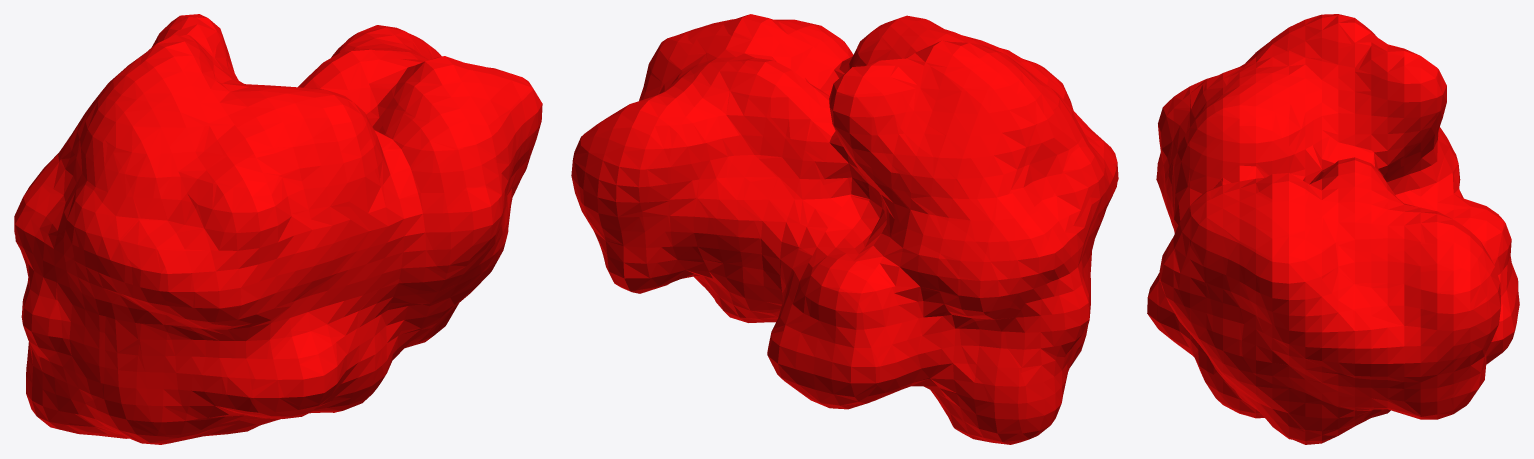
The model's file is yahK_coarse.dae.
3 views of the same model, side by side, from view 1: azimuth 30°, elevation 25°; view 2: azimuth 150°, elevation 25°; view 3: azimuth 270°, elevation 25° (orthographic). The views are drawn at different scales.
Parts seen in each view (by area): view 1: yahK; view 2: yahK; view 3: yahK.
Part boxes in pixels (x1,y1,x2,y2): yahK: [14, 14, 542, 444]; yahK: [571, 14, 1118, 444]; yahK: [1147, 14, 1519, 444].
Bounding box in the file's own units: 65.08 × 50.34 × 46.17.
